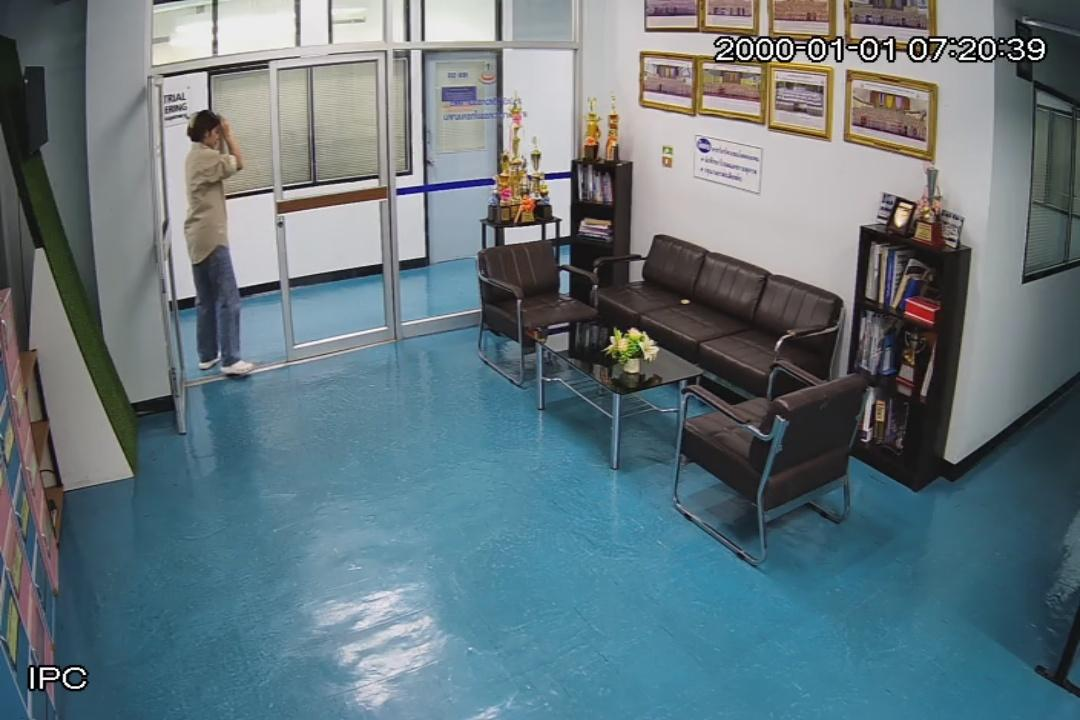normal: (172, 104, 266, 382)
